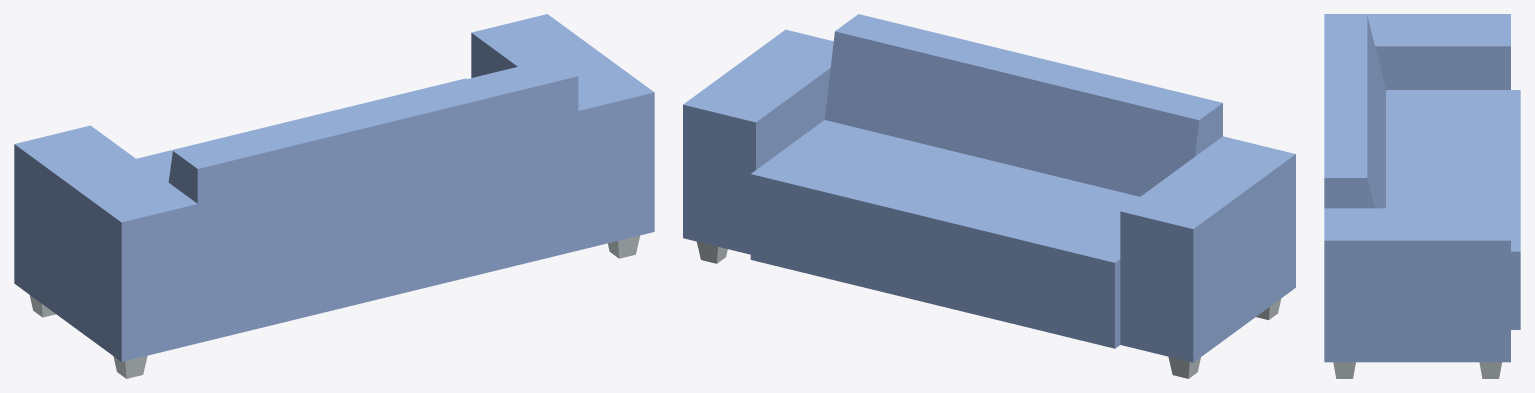
The model's file is lounge-design-sofa.glb.
3 views of the same model, side by side, from view 1: azimuth 30°, elevation 25°; view 2: azimuth 150°, elevation 25°; view 3: azimuth 270°, elevation 25° (orthographic). The views are drawn at different scales.
Visible parts, largest first — view 1: Mesh0, Mesh1; view 2: Mesh0, Mesh1; view 3: Mesh0, Mesh1.
Part boxes in pixels (x1,y1,x2,y2): Mesh0: [14, 14, 654, 361]; Mesh1: [29, 235, 640, 378]; Mesh0: [683, 14, 1295, 362]; Mesh1: [697, 241, 1281, 378]; Mesh0: [1324, 14, 1520, 362]; Mesh1: [1333, 362, 1501, 378].
Size of the model in its own units: 1.12 by 0.4 by 0.41.
